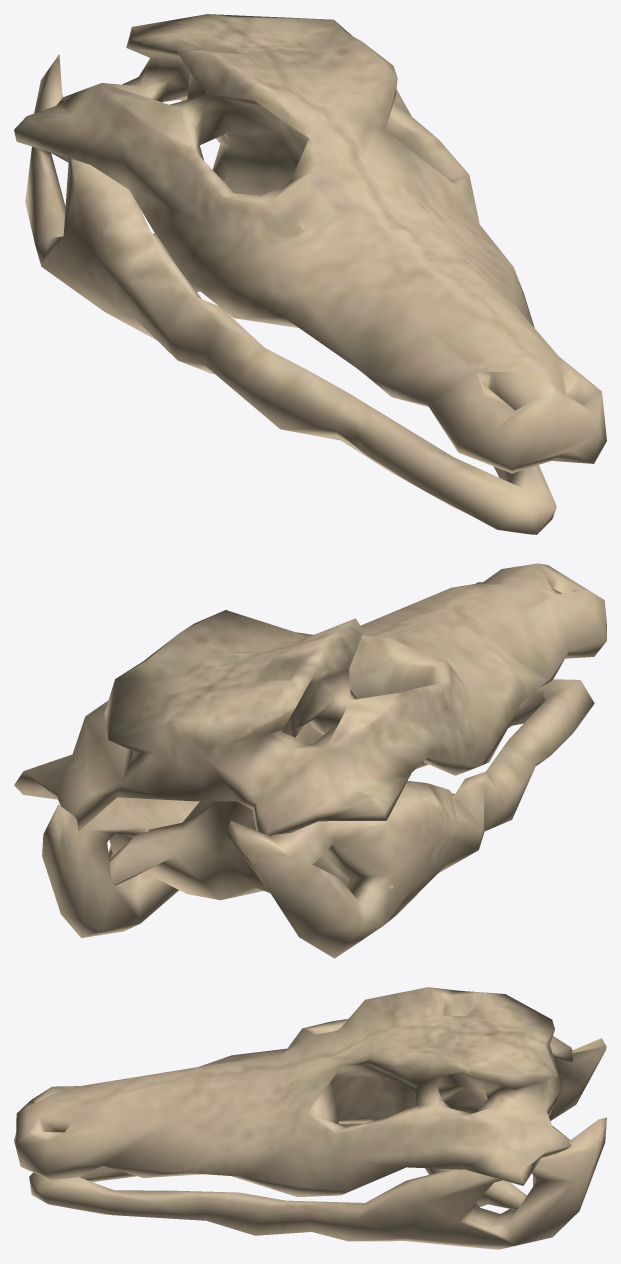
File: crocodile_skull.glb
The picture shows the model from 3 angles, top to bottom: view 1: azimuth 30°, elevation 25°; view 2: azimuth 150°, elevation 25°; view 3: azimuth 270°, elevation 25°; orthographic projection. The views are drawn at different scales.
Parts seen in each view (by area): view 1: PM3D_Cube3D1.002_part1; view 2: PM3D_Cube3D1.002_part1; view 3: PM3D_Cube3D1.002_part1.
Boxes of the visible parts, box(x1,y1,x2,y2) form: PM3D_Cube3D1.002_part1: box(14, 14, 606, 534); PM3D_Cube3D1.002_part1: box(14, 563, 606, 958); PM3D_Cube3D1.002_part1: box(14, 987, 606, 1249).
Size of the model in its own units: 0.5002 by 0.3747 by 0.9649.
Materials: 1 (1 with a texture image).
